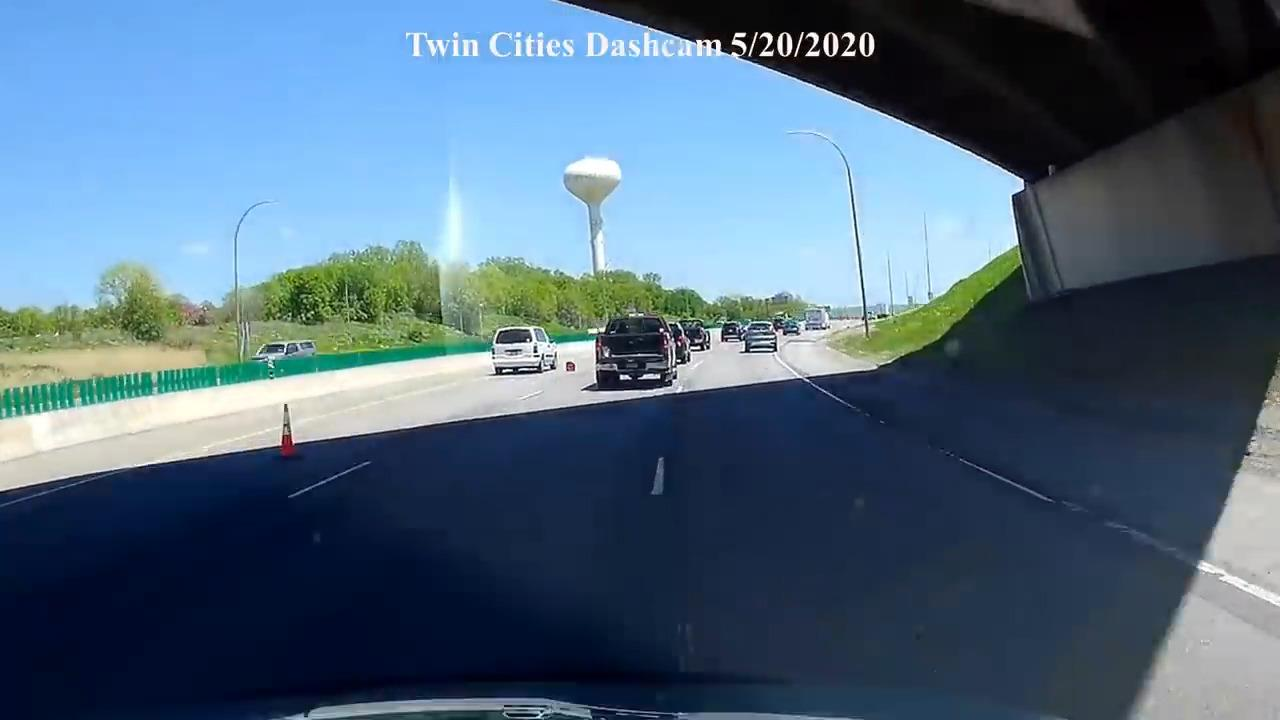car: (490, 326, 557, 375), (253, 340, 316, 361)
traffic cone: (276, 403, 303, 459)
